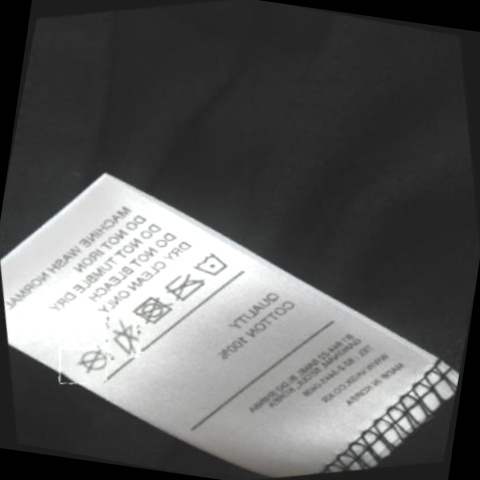30C: (194, 248, 227, 279)
DN_bleach: (102, 319, 141, 357)
DN_dry_clean: (75, 346, 111, 378)
DN_iron: (161, 270, 202, 305)
DN_tumble_dry: (129, 291, 173, 327)
